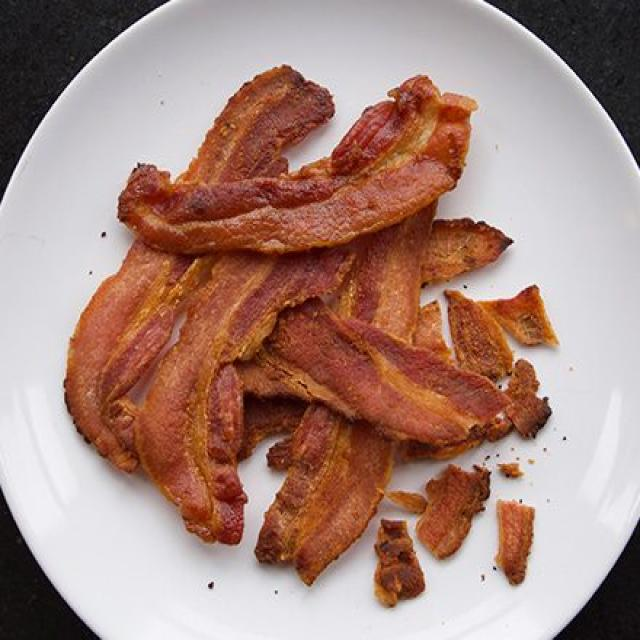Bacon: (135, 249, 352, 544), (119, 76, 475, 254), (240, 300, 506, 446), (65, 241, 201, 471), (255, 404, 395, 584), (179, 65, 334, 182), (338, 201, 436, 340), (336, 206, 436, 340)
